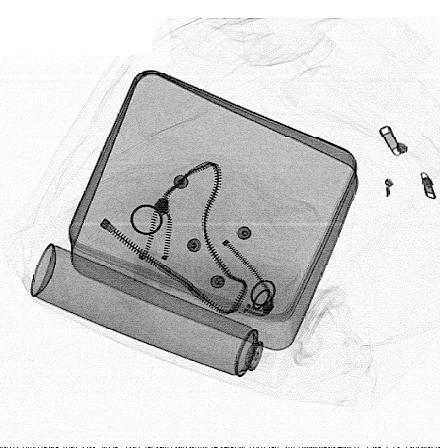Sprayer: (30, 241, 300, 391)
